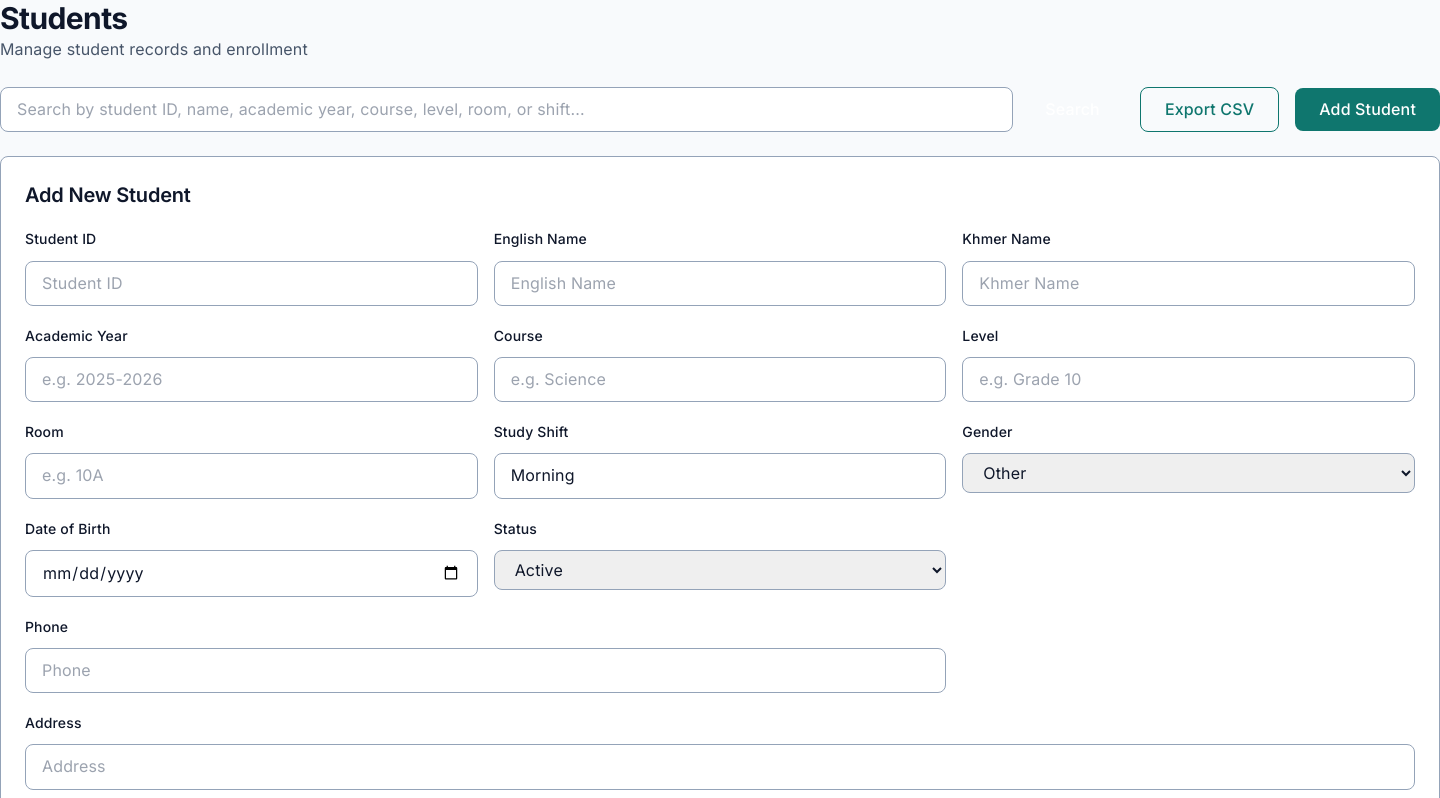
Test: Student CSV export › preserves the existing Student create flow
Expected: the text "Add New Student" is shown, [25,183,191,207]
Type "S-NEW" into the field with placeholder "Student ID" at (251, 283), box [25,261,478,306]
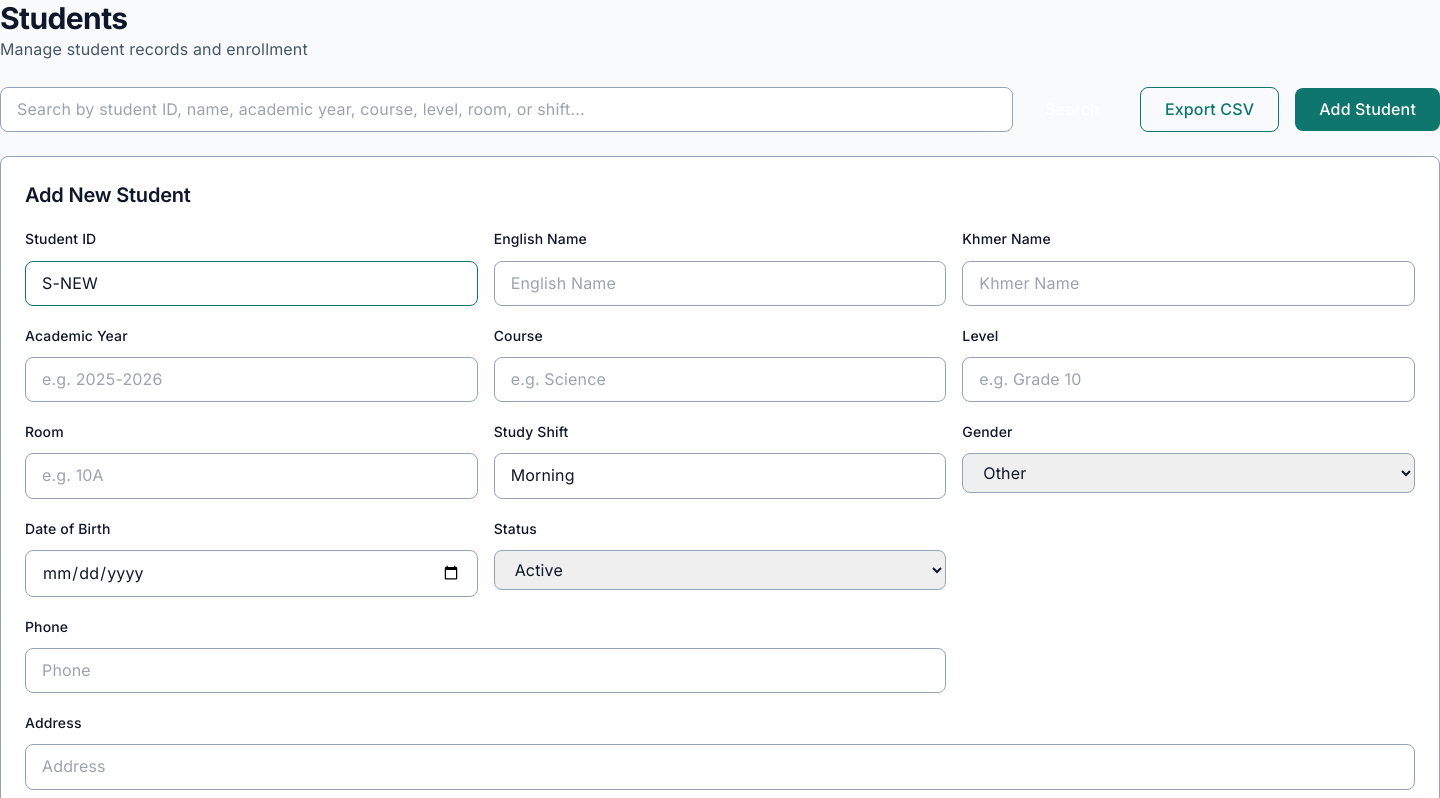
Type "New Student" into the field with placeholder "English Name" at (720, 283), box [494,261,946,306]
(page scrolled)
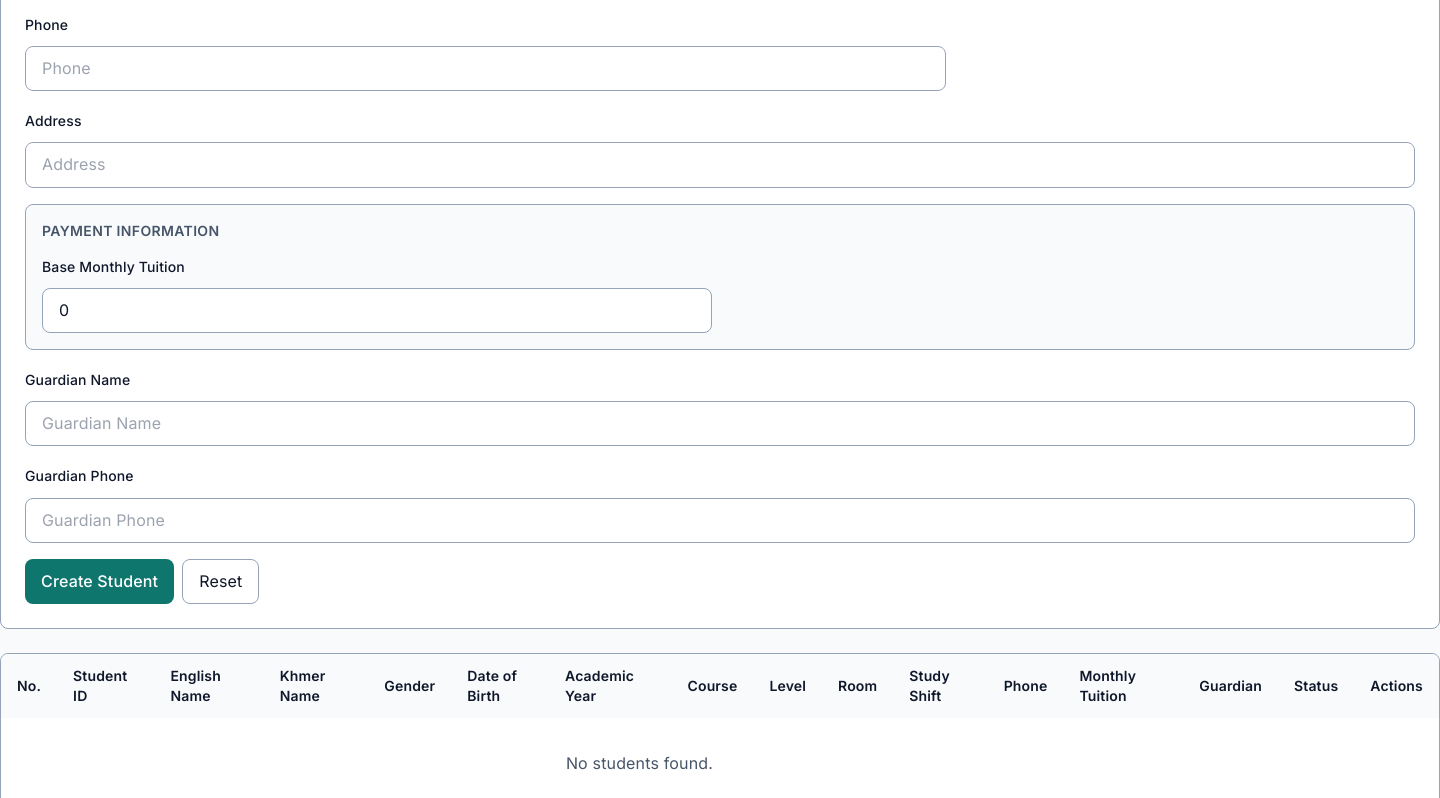
Click the button "Create Student" at (100, 581), box [25,559,174,604]
(page scrolled)
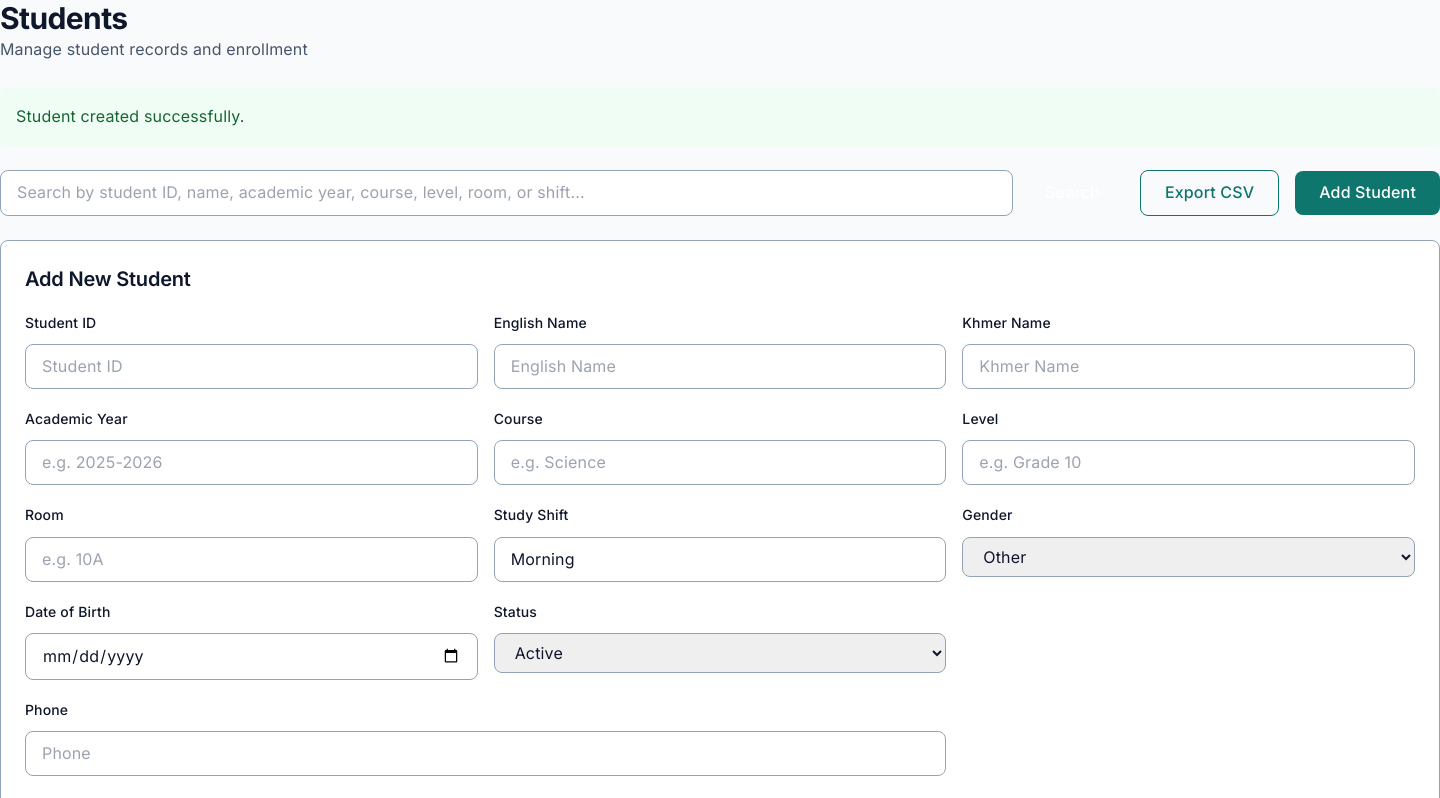
Result: the text "Student created successfully." is shown at [0,87,1439,146]
